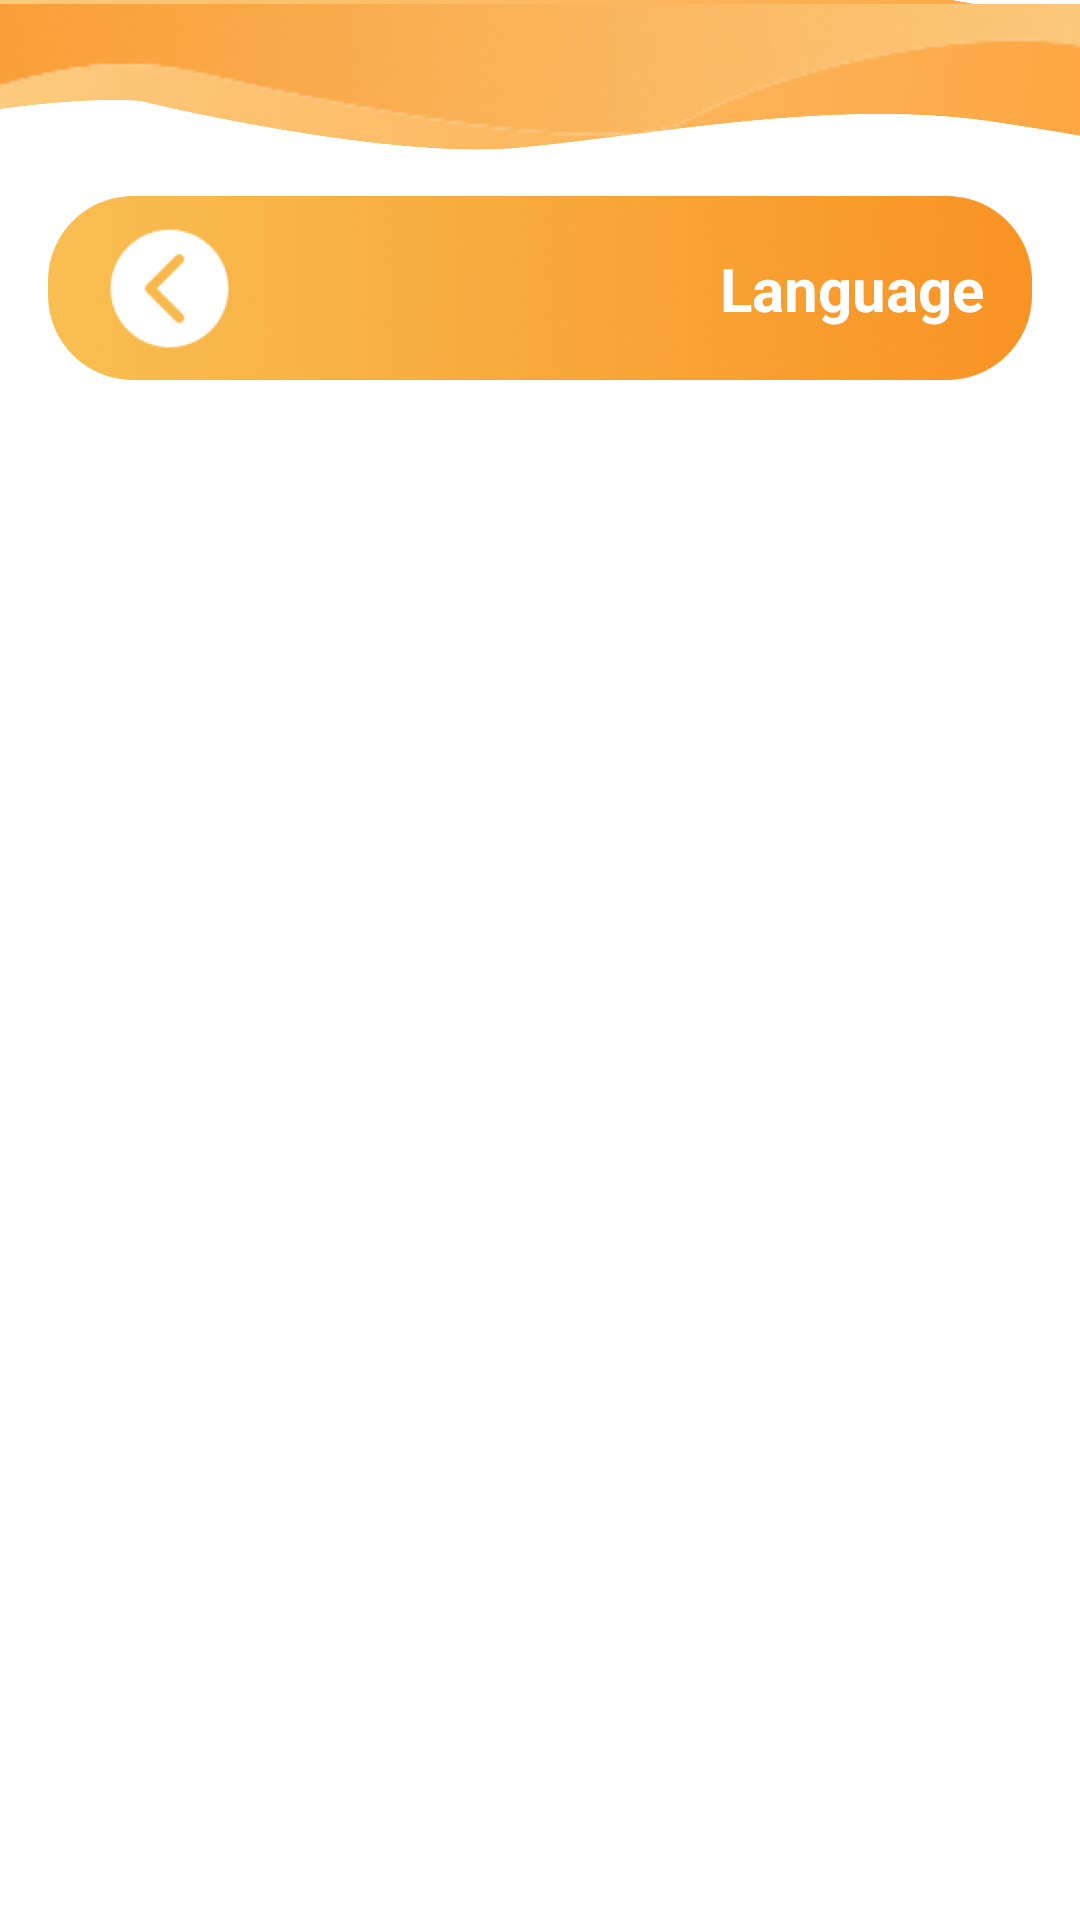

Where icons sit on this 1080*1920 app screen, as {"left": x1, "top": y1, "right": x2, "bottom": y2}:
backto: {"left": 110, "top": 229, "right": 229, "bottom": 348}
